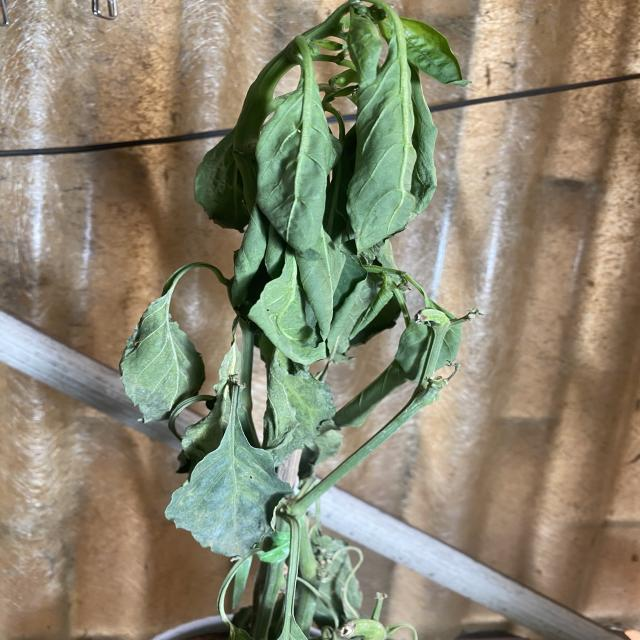Leaf: (168, 439, 290, 560), (252, 83, 333, 260), (347, 58, 418, 254), (118, 294, 204, 424)
